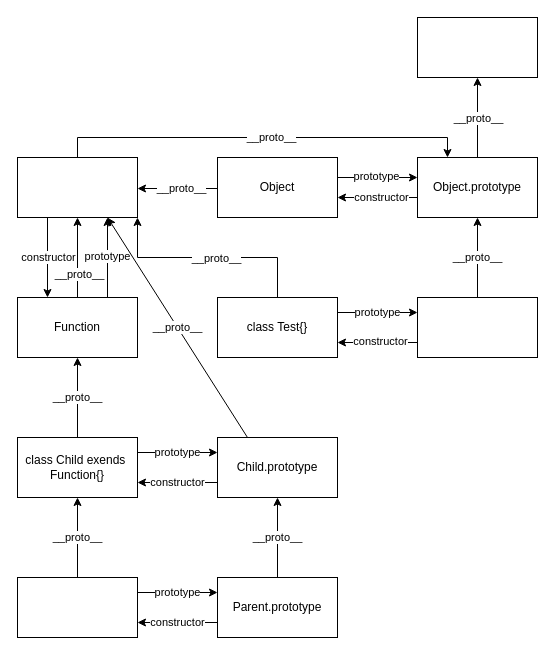
The diagram is 555 pixels wide and 655 high, and some of its shapes have lost their labels. Here are the shapes that lost their labels. From the top down, the centre of each, then its label:
At point (477, 47): "null".
At point (77, 187): "Function.prototype".
At point (477, 327): "Test.prototype".
At point (77, 607): "Class Parent extends Child{}".
